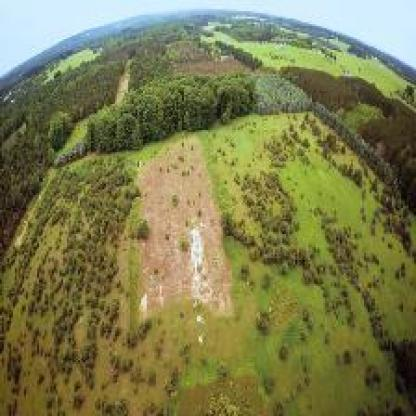other: (146, 203, 234, 313)
